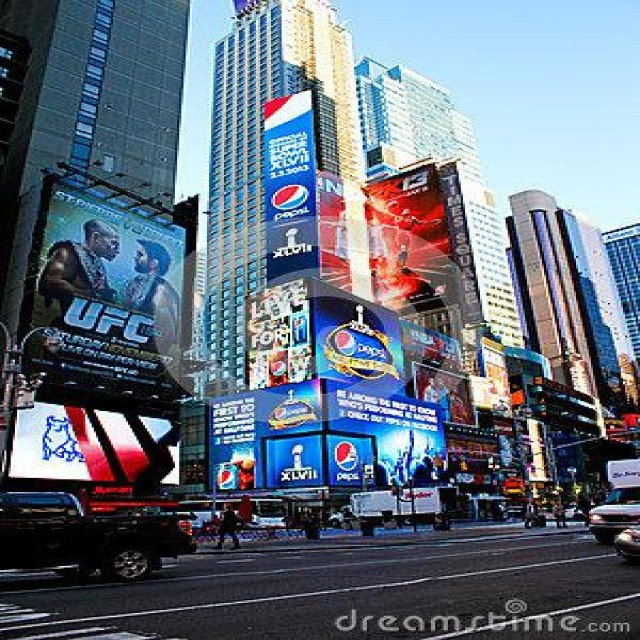pepsi: (269, 184, 310, 210), (332, 441, 363, 469), (333, 329, 362, 356)
